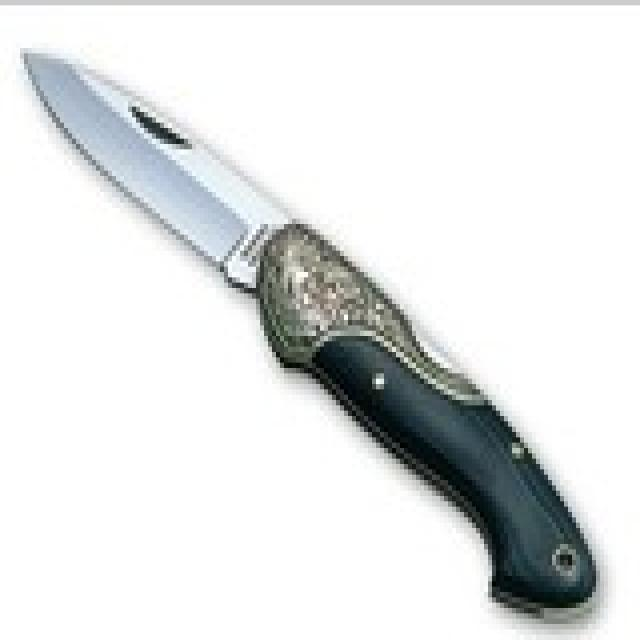Knife: (13, 35, 615, 628)
